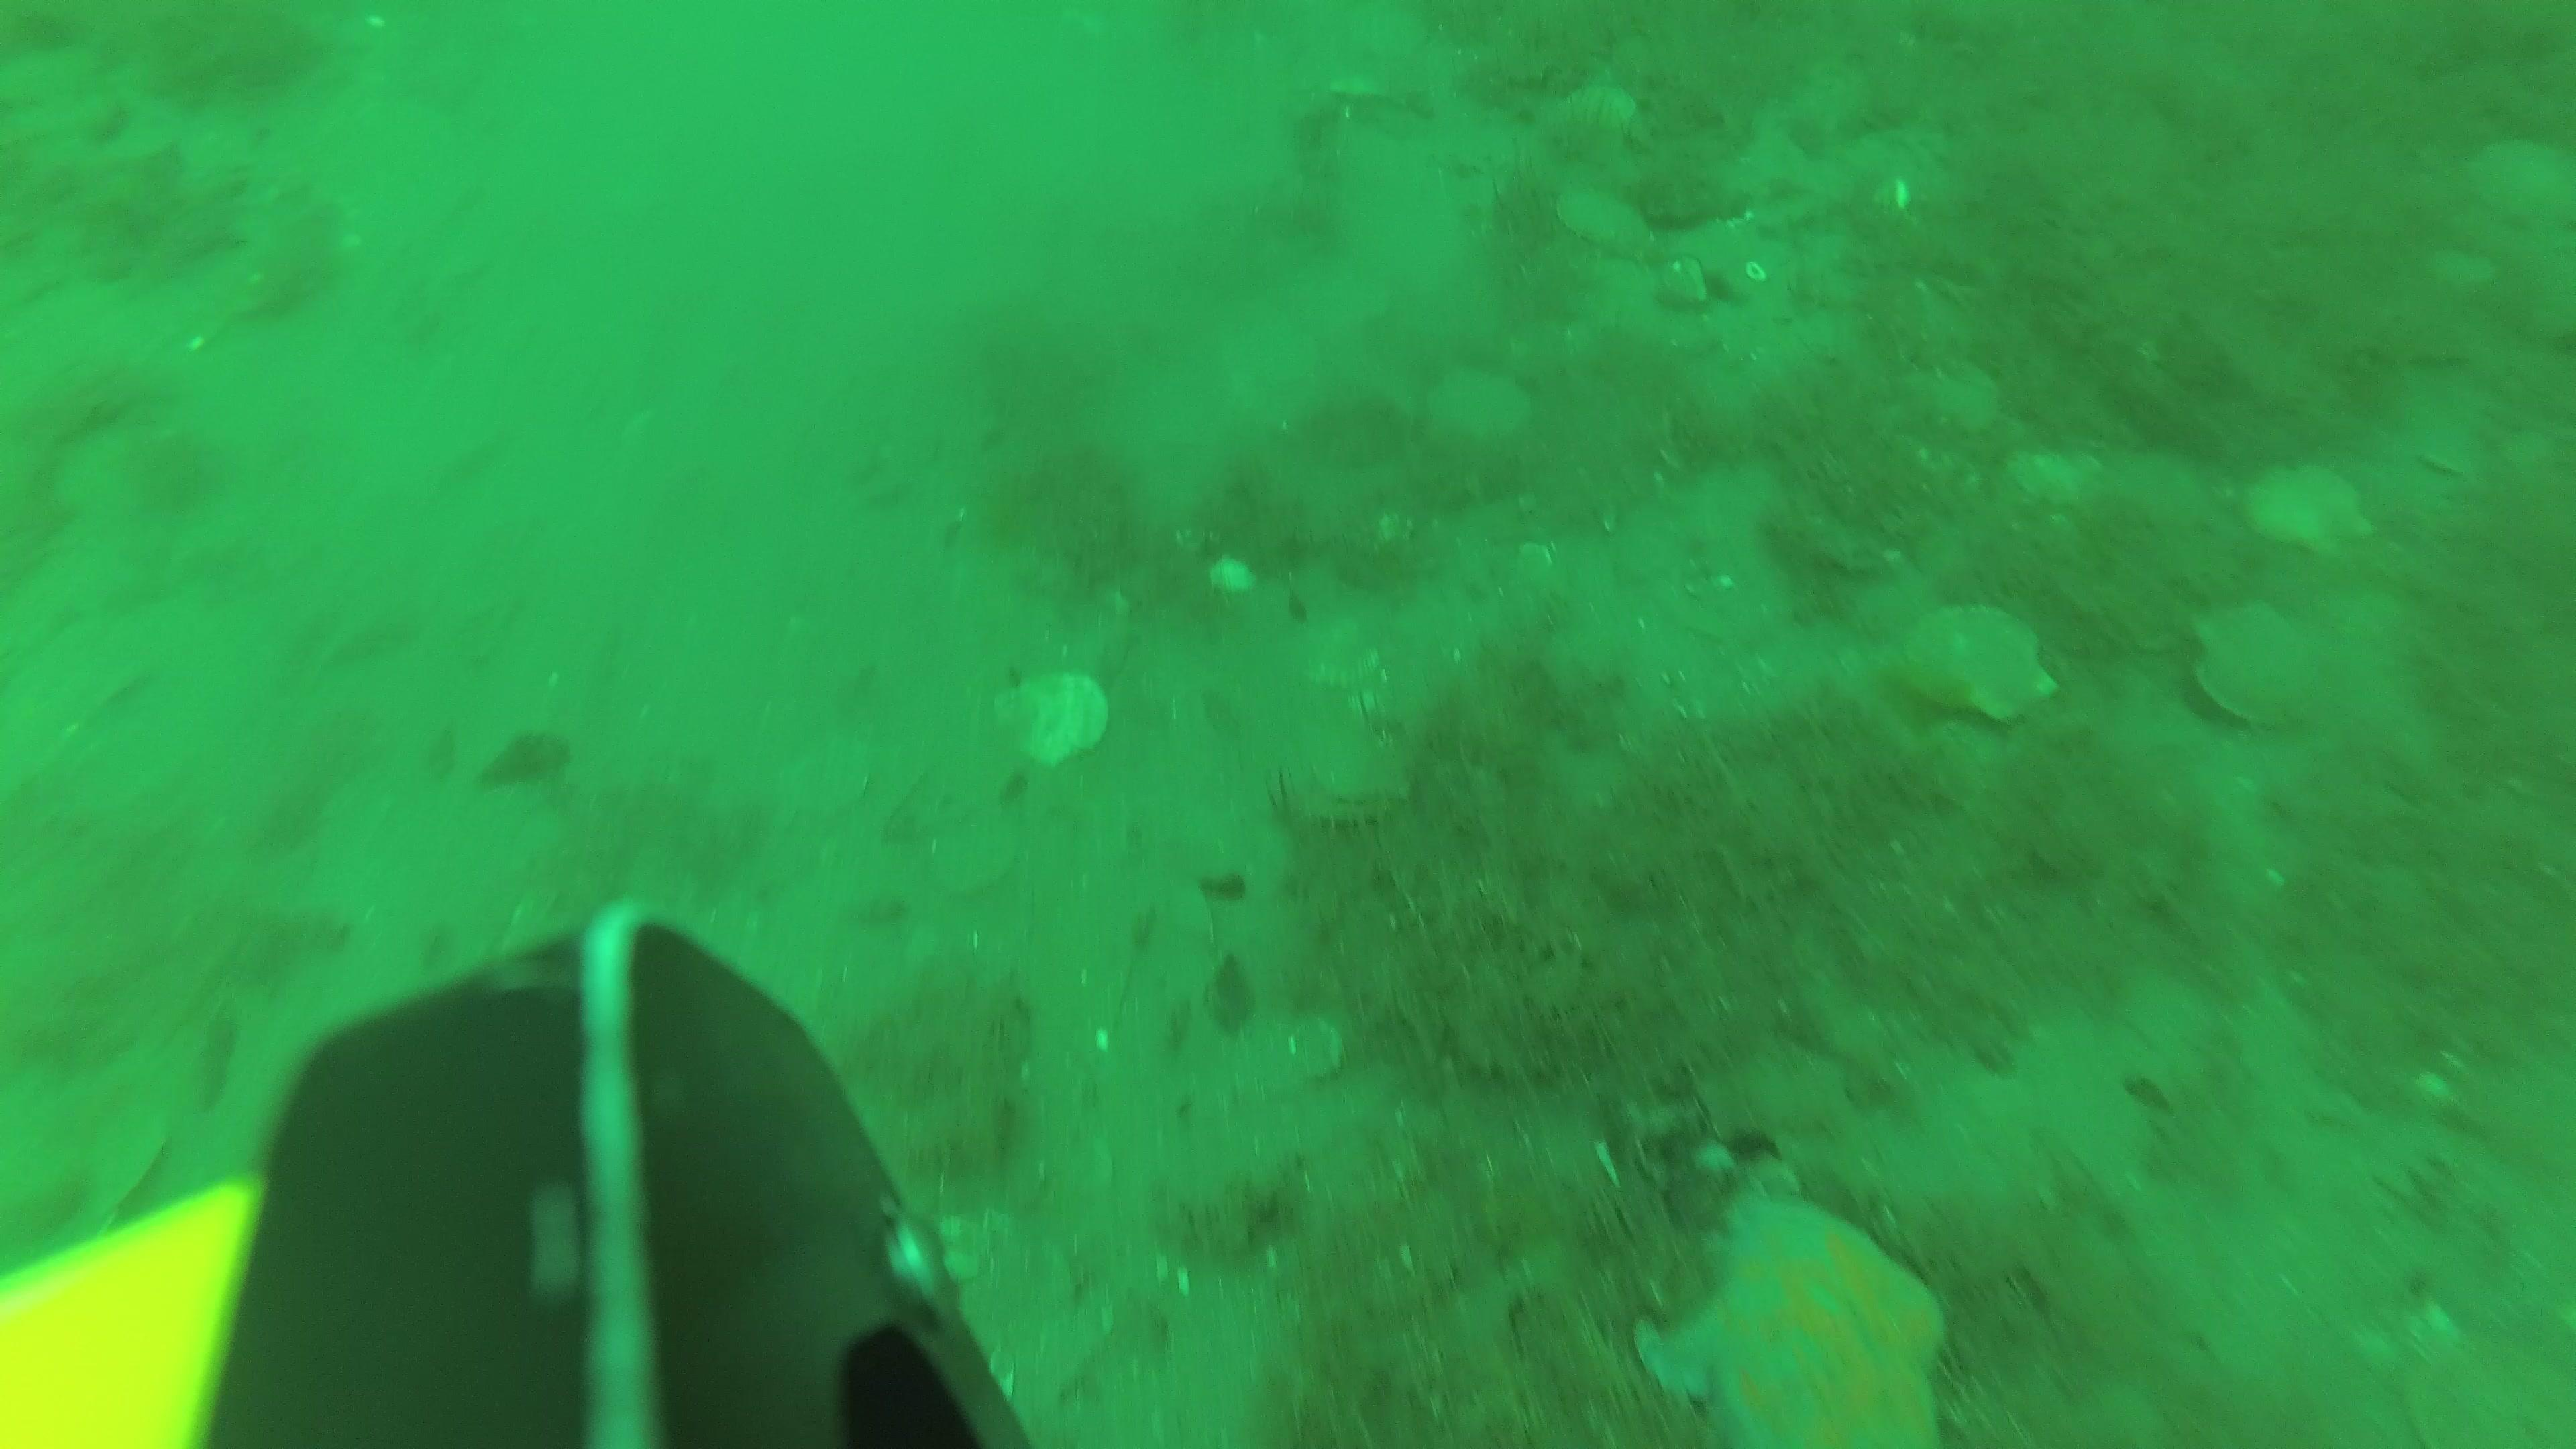scallop: (2396, 1311, 2576, 1449), (1898, 591, 2063, 729), (2189, 596, 2341, 727), (2245, 451, 2387, 557), (1207, 313, 1336, 421), (1284, 717, 1421, 814), (1419, 352, 1537, 449), (994, 671, 1111, 768), (2472, 131, 2576, 234), (2107, 451, 2231, 536), (1898, 350, 2006, 446), (1286, 258, 1408, 338), (922, 814, 1030, 902), (2006, 441, 2104, 536), (1552, 184, 1665, 265), (1297, 616, 1392, 688), (1560, 73, 1642, 143)
starfish: (1628, 1166, 1955, 1449)
